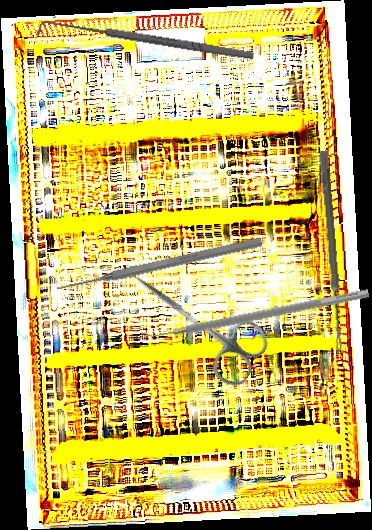Hook Surgical: (36, 15, 256, 69)
Iris Scissors: (115, 252, 276, 392)
Pusher: (55, 234, 263, 296)
Spatula Surgical: (140, 279, 370, 346)
Surgical Spoon: (317, 150, 346, 352)
